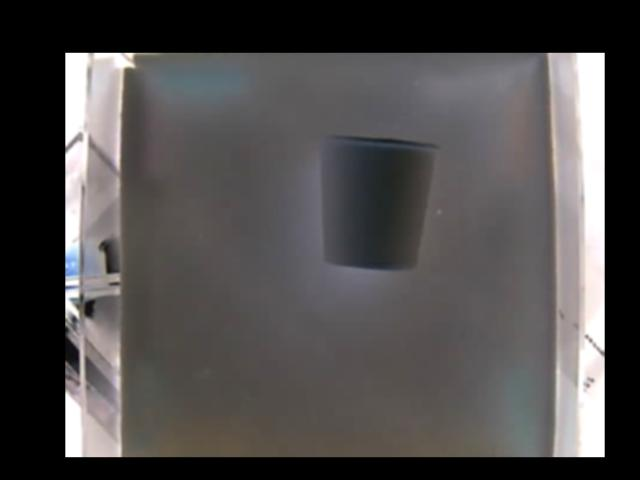Cup: (318, 134, 440, 271)
